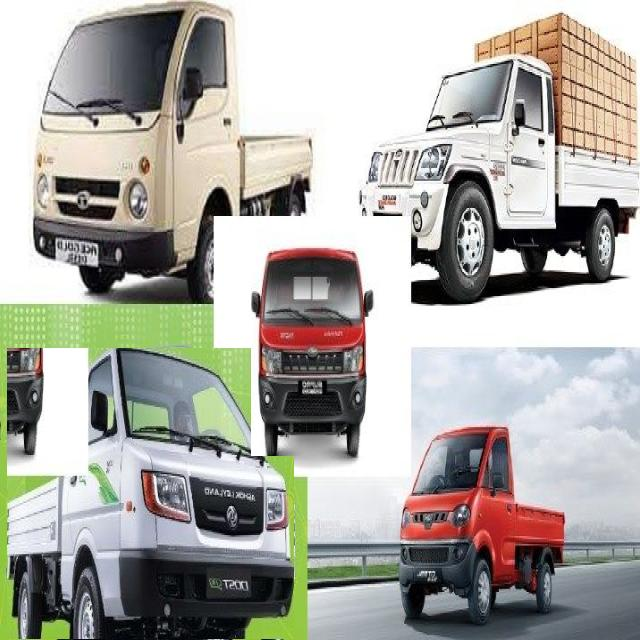truck: (34, 2, 312, 301), (8, 349, 294, 639), (360, 13, 640, 301), (399, 427, 565, 623), (251, 249, 374, 456)
